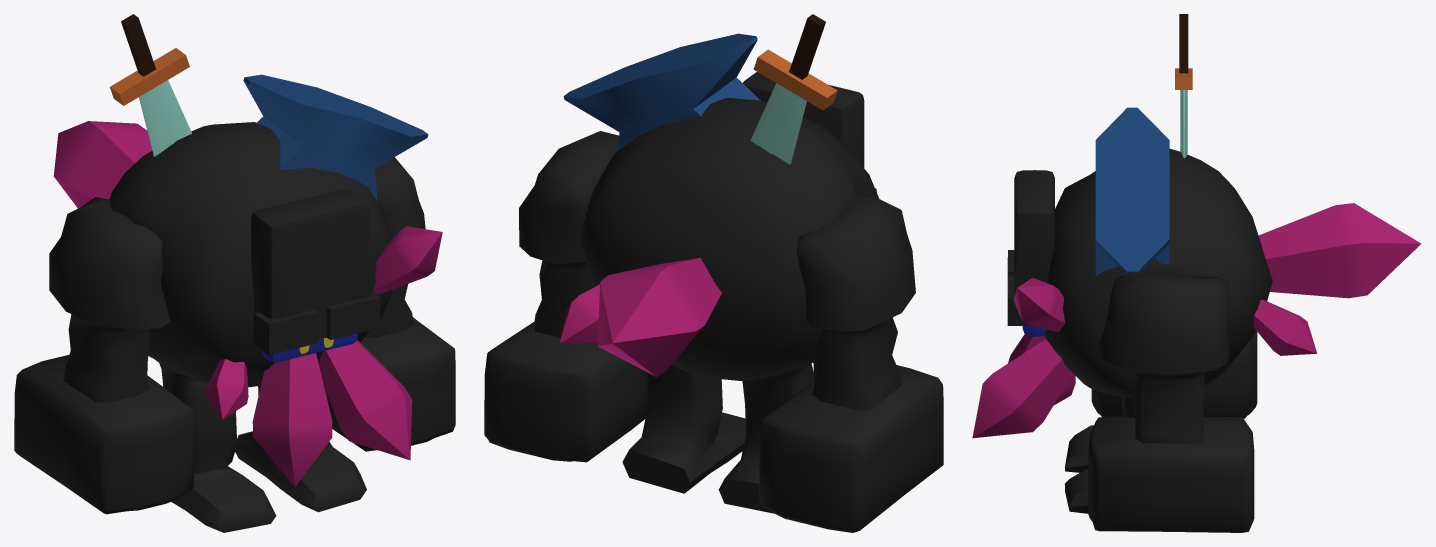
The model's file is Golem 1.fbx.
The picture shows the model from 3 angles, left to right: view 1: azimuth 30°, elevation 25°; view 2: azimuth 150°, elevation 25°; view 3: azimuth 270°, elevation 25°; orthographic projection. The views are drawn at different scales.
Parts seen in each view (by area): view 1: Corps_Jambes; view 2: Corps_Jambes; view 3: Corps_Jambes.
Part boxes in pixels (x1=…): Corps_Jambes: x1=14, y1=14, x2=455, y2=532; Corps_Jambes: x1=484, y1=14, x2=943, y2=532; Corps_Jambes: x1=972, y1=14, x2=1421, y2=532.
Bounding box in the file's own units: 107 × 135 × 129.
